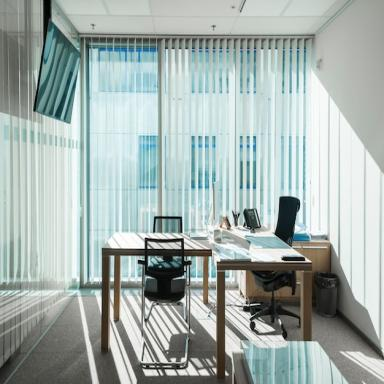glass_panel: (36, 21, 79, 121), (329, 95, 337, 258)
